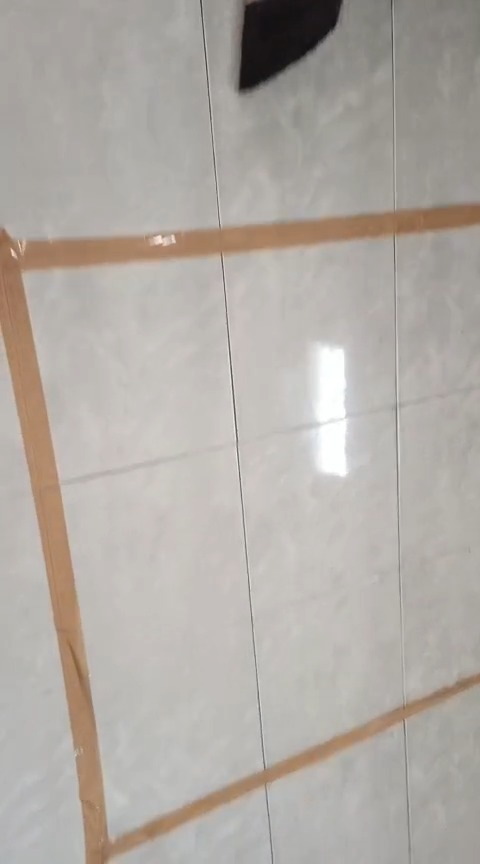floor marking: (0, 204, 479, 863)
